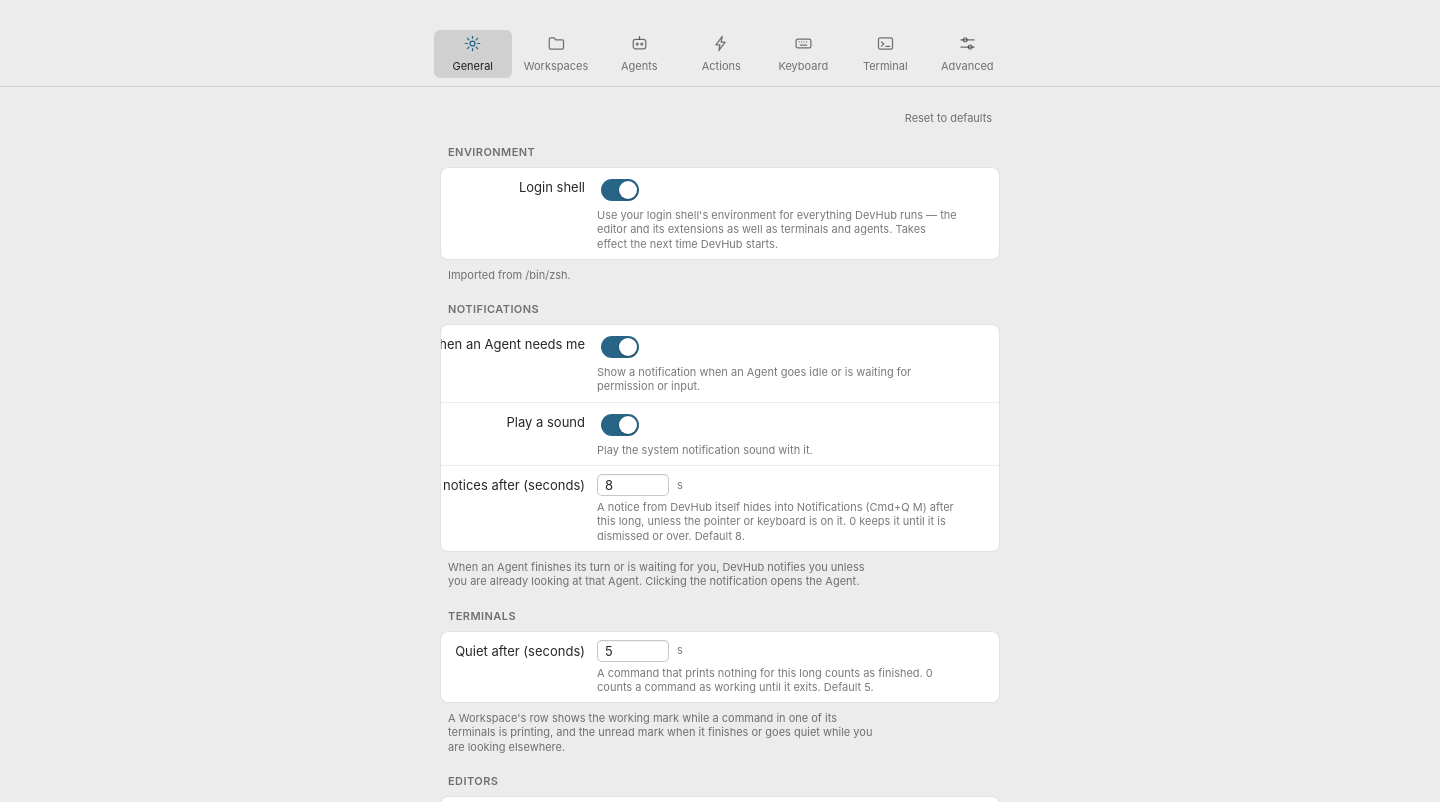
it: the agent pane font family field › puts back what is in effect on Escape
The width and height of the screenshot is (1440, 802).
Click the tab "General".
click(473, 54)  # box [434,30,512,78]
(page scrolled)
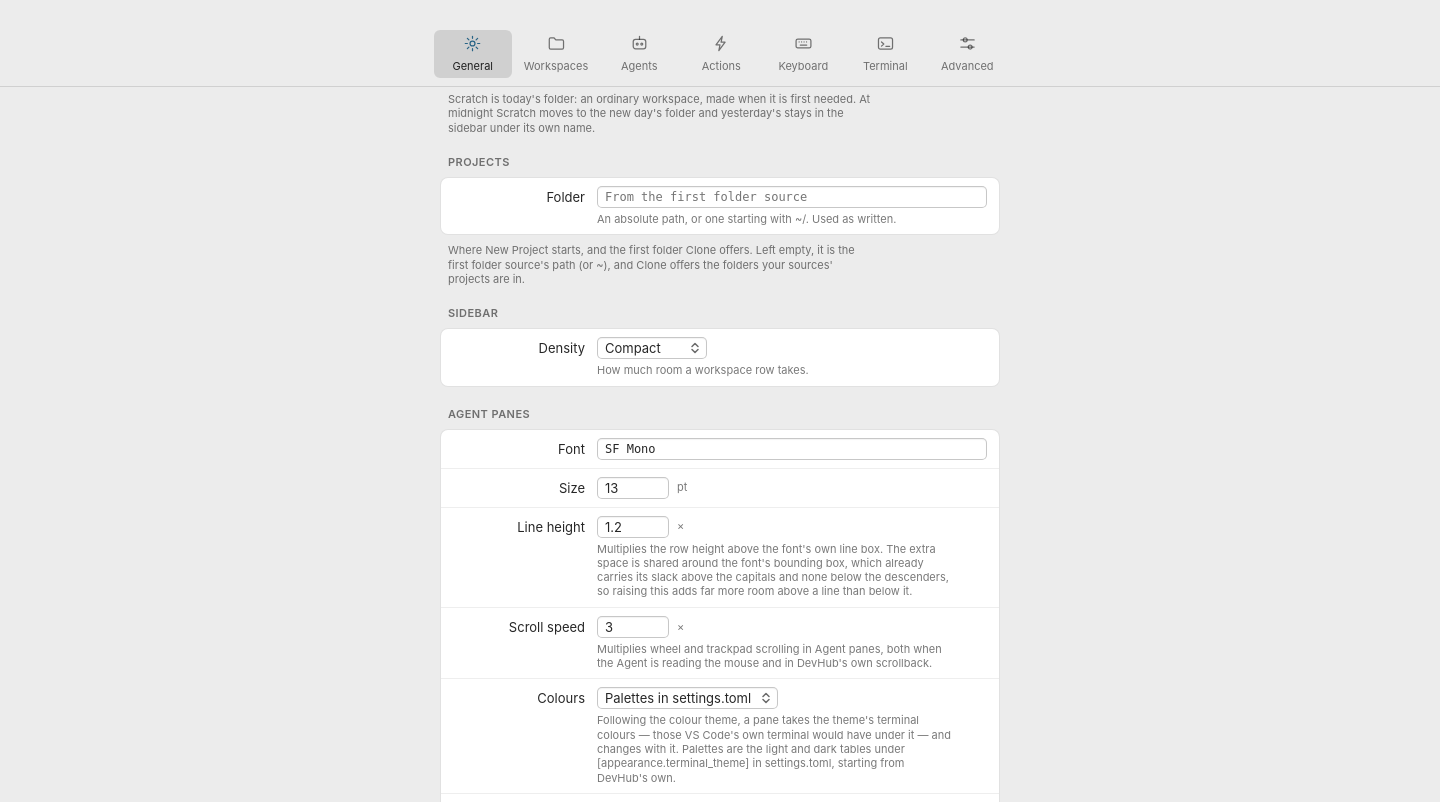
Replace the text in the field named "Agent pane font family" with "Menl" at (792,449), box [597,438,987,460]
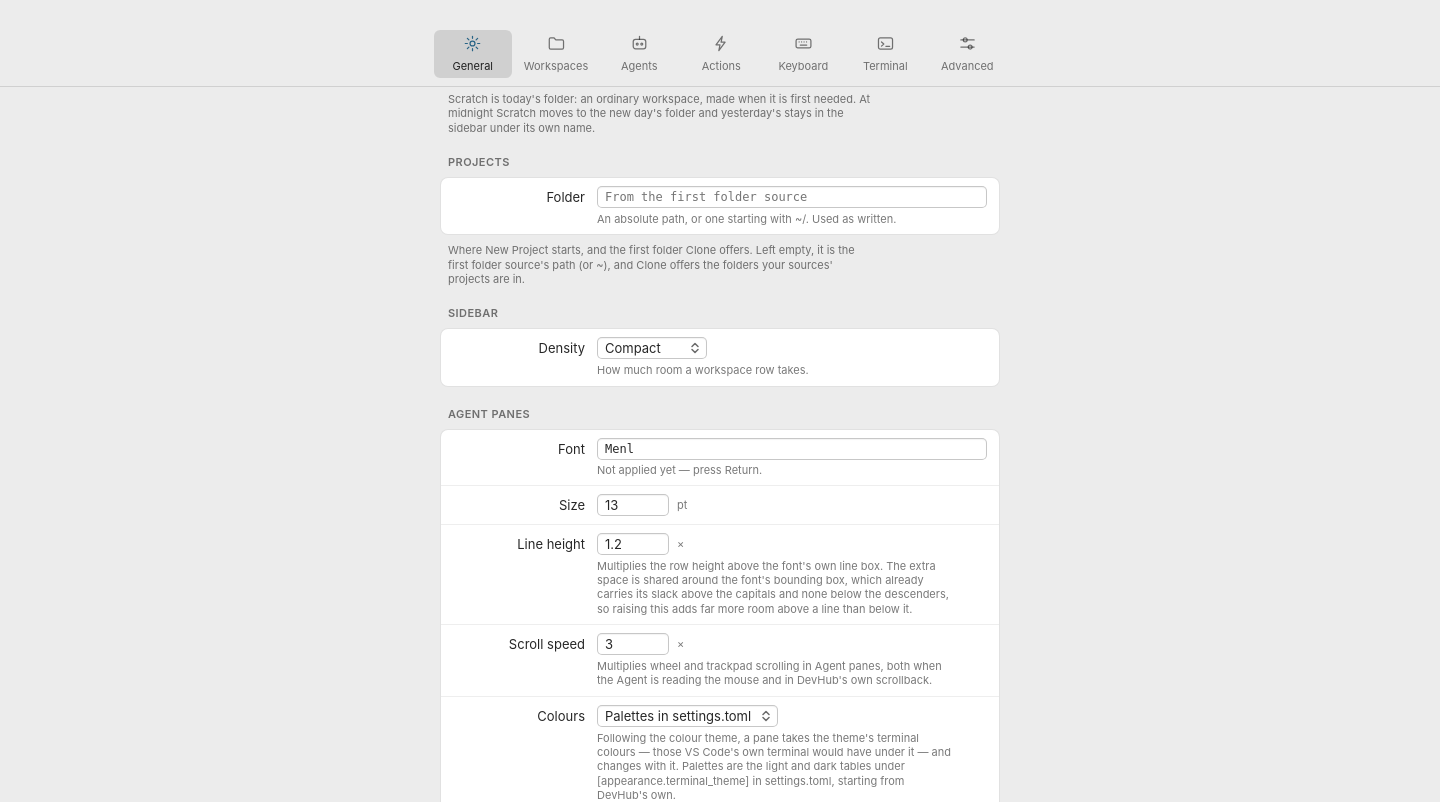
Press Escape in the field named "Agent pane font family", box [597,438,987,460]
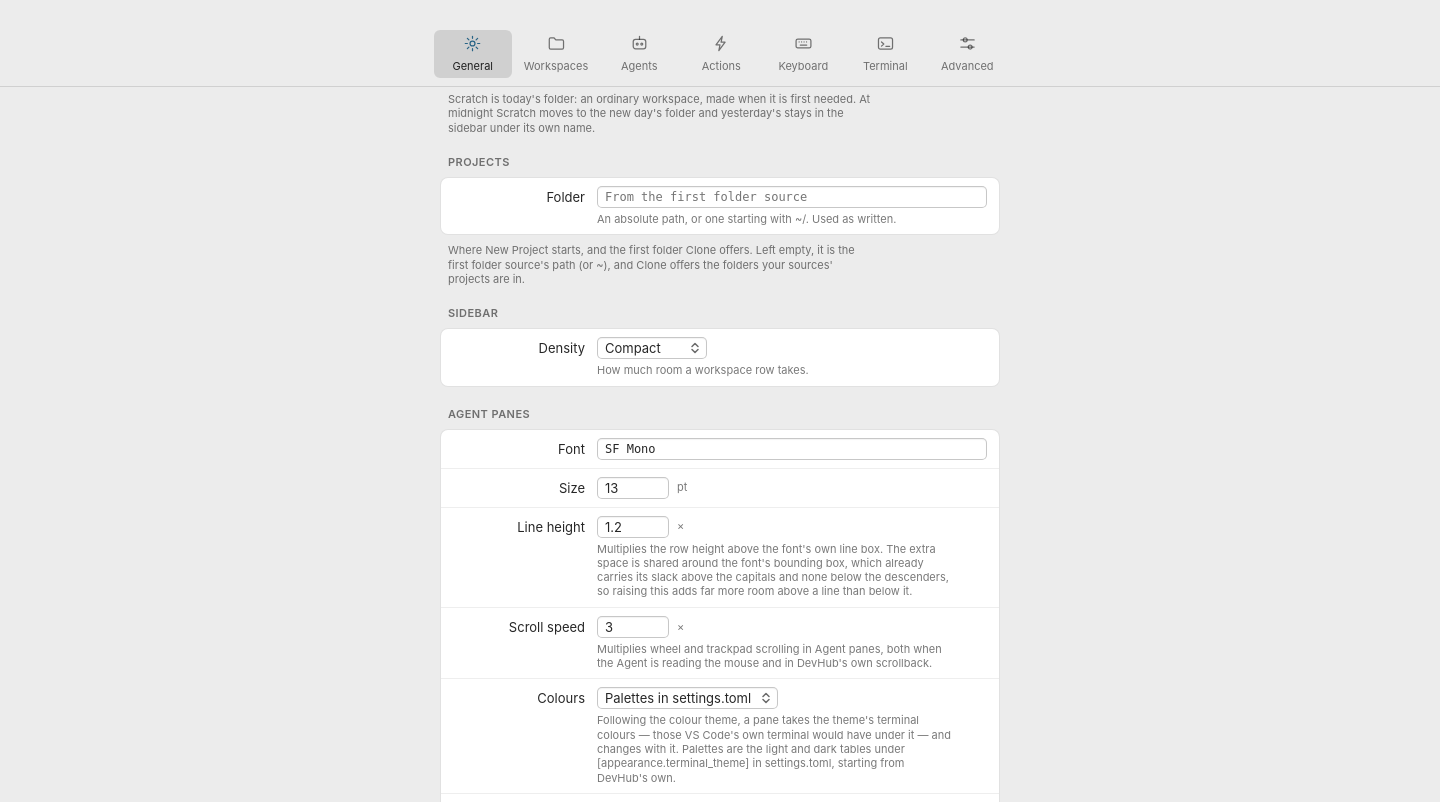
Expected: the field named "Agent pane font family" holds "SF Mono", [597,438,987,460]
